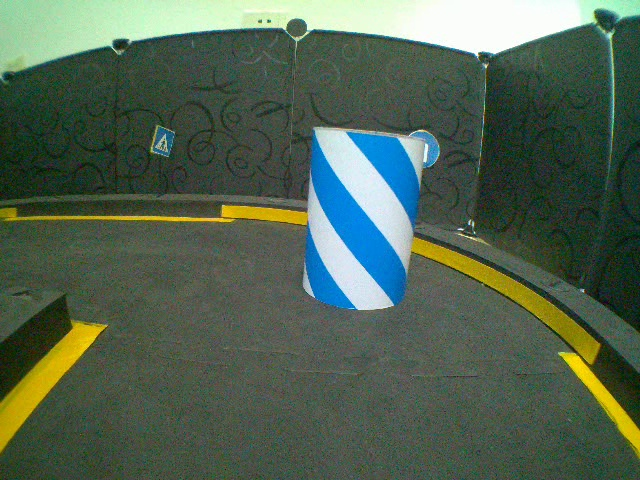bucket: (300, 127, 427, 308)
